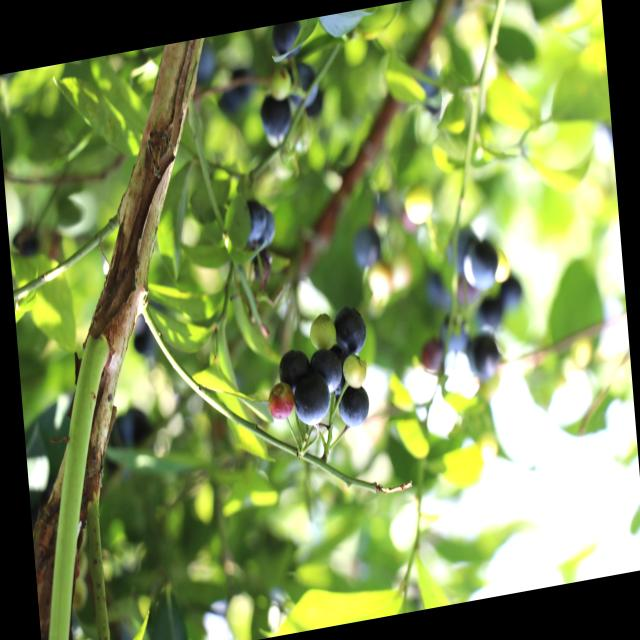blueberry: (291, 369, 333, 427), (461, 238, 498, 294), (331, 303, 368, 357), (241, 199, 279, 249), (308, 343, 344, 395), (467, 333, 501, 382), (278, 343, 311, 392), (336, 385, 370, 430), (259, 92, 290, 138)
blueberry-halfripe: (266, 386, 296, 425)
blueberry-unripe: (307, 309, 340, 355), (342, 351, 370, 390)
